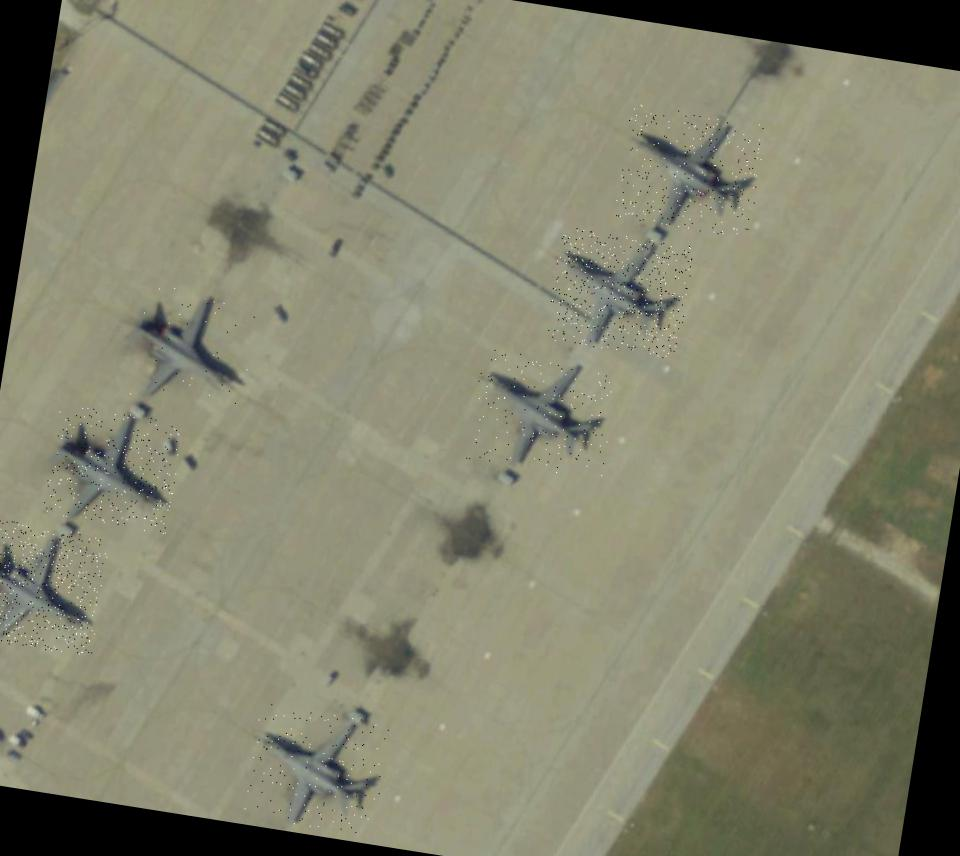A10: (614, 102, 767, 238), (465, 348, 619, 480), (545, 225, 695, 360), (244, 702, 392, 836), (119, 280, 260, 414), (42, 403, 184, 534), (0, 517, 110, 657)
